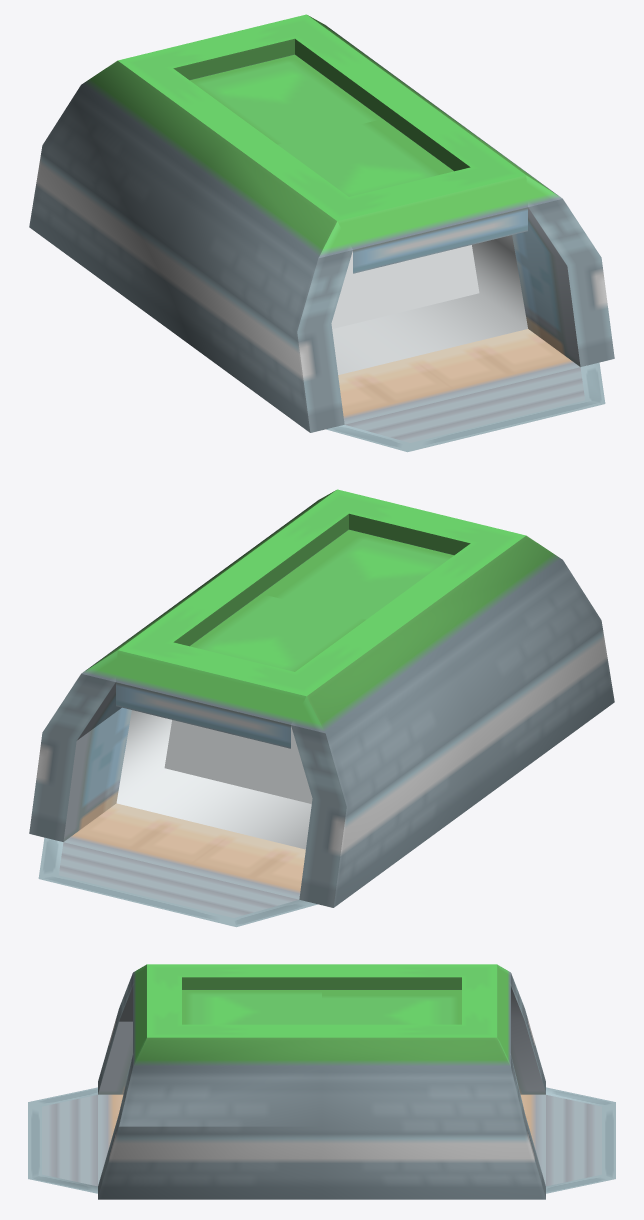
File: gate.obj
3 renders of one model, top to bottom at view 1: azimuth 30°, elevation 25°; view 2: azimuth 150°, elevation 25°; view 3: azimuth 270°, elevation 25°, orthographic. The views are drawn at different scales.
Visible parts, largest first — view 1: polygon2, polygon0; view 2: polygon2, polygon0; view 3: polygon2, polygon0.
Part boxes in pixels (box(x1,y1,x2,y2)): polygon2: box(29, 14, 614, 452); polygon0: box(331, 207, 584, 442); polygon2: box(29, 489, 614, 927); polygon0: box(59, 682, 312, 917); polygon2: box(28, 964, 615, 1199); polygon0: box(42, 986, 601, 1186).
Bounding box in the file's own units: 5.5 × 2.75 × 11.
1 material, 1 textured.
